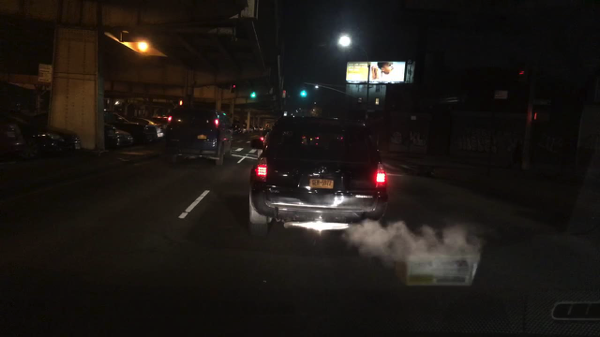car: (248, 118, 388, 241), (163, 106, 232, 166), (1, 110, 82, 160), (104, 111, 165, 145), (1, 123, 27, 157), (105, 127, 134, 148), (153, 115, 169, 127), (233, 124, 242, 134), (242, 125, 248, 134), (259, 126, 267, 132), (250, 126, 255, 132)
traffic light: (517, 69, 526, 85), (299, 90, 308, 99), (250, 91, 257, 100), (230, 84, 236, 93), (532, 112, 538, 121), (178, 100, 184, 106)
traffic sign: (39, 65, 53, 85)
